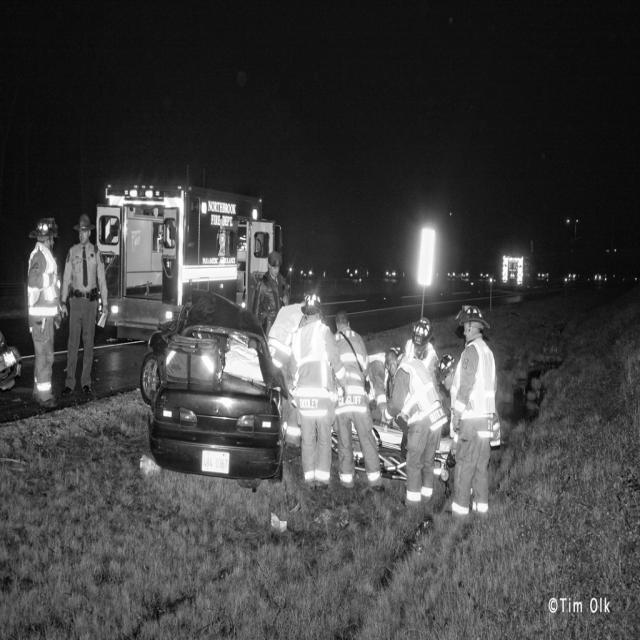crush: (150, 285, 288, 410)
